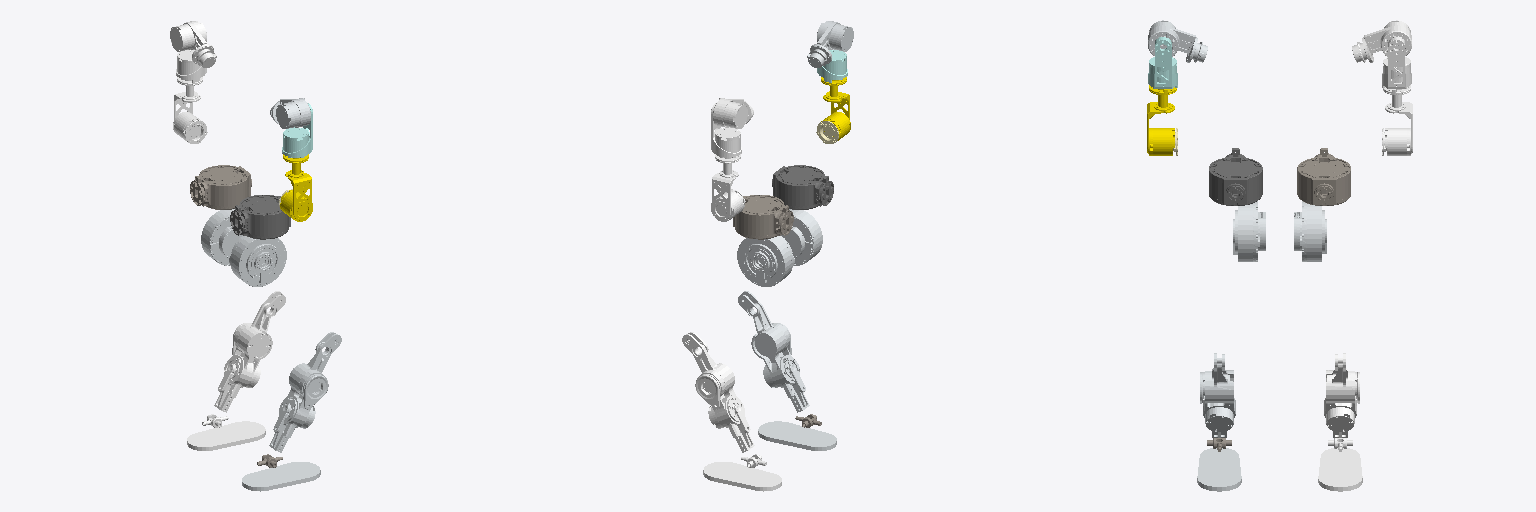
--- What the picture shows (computed from the rendered views, not written in the file) ---
The picture shows the robot from 3 angles, left to right: view 1: azimuth 30°, elevation 25°; view 2: azimuth 150°, elevation 25°; view 3: azimuth 270°, elevation 25°; orthographic projection.
Model Dora2_yin with 21 links and 20 joints (12 revolute, 8 fixed), rooted at base_link, posed every joint at zero.
Visible links, largest first — view 1: l_leg_knee_Link, r_leg_knee_Link, r_leg_hip_yaw_Link, l_leg_hip_roll_Link, r_leg_hip_roll_Link, l_leg_ankle_roll_Link, r_leg_ankle_roll_Link, r_arm_shoulder_yaw_Link, l_leg_hip_yaw_Link, l_arm_shoulder_pitch_Link, r_arm_shoulder_pitch_Link, l_arm_shoulder_yaw_Link (+2 smaller); view 2: r_leg_knee_Link, l_leg_knee_Link, l_leg_hip_yaw_Link, r_leg_hip_roll_Link, l_leg_hip_roll_Link, r_leg_ankle_roll_Link, l_leg_ankle_roll_Link, l_arm_shoulder_yaw_Link, r_leg_hip_yaw_Link, r_arm_shoulder_pitch_Link, l_arm_shoulder_pitch_Link, r_arm_shoulder_yaw_Link (+2 smaller); view 3: l_leg_hip_roll_Link, r_leg_hip_roll_Link, l_leg_knee_Link, r_leg_knee_Link, l_leg_ankle_roll_Link, r_leg_ankle_roll_Link, r_leg_hip_yaw_Link, l_leg_hip_yaw_Link, l_arm_shoulder_yaw_Link, r_arm_shoulder_yaw_Link, l_arm_shoulder_pitch_Link, r_arm_shoulder_pitch_Link (+2 smaller).
Link boxes in pixels (x1,y1,x2,y2): l_leg_knee_Link: (214, 291, 285, 412); r_leg_knee_Link: (269, 332, 341, 452); r_leg_hip_yaw_Link: (229, 236, 286, 286); l_leg_hip_roll_Link: (190, 165, 251, 209); r_leg_hip_roll_Link: (230, 195, 290, 239); l_leg_ankle_roll_Link: (187, 421, 265, 450); r_leg_ankle_roll_Link: (242, 462, 320, 491); r_arm_shoulder_yaw_Link: (280, 154, 312, 221); l_leg_hip_yaw_Link: (201, 209, 242, 265); l_arm_shoulder_pitch_Link: (170, 21, 216, 67); r_arm_shoulder_pitch_Link: (270, 98, 310, 128); l_arm_shoulder_yaw_Link: (173, 77, 202, 140); r_leg_knee_Link: (738, 291, 809, 412); l_leg_knee_Link: (682, 332, 754, 452); l_leg_hip_yaw_Link: (737, 236, 794, 286); r_leg_hip_roll_Link: (772, 165, 833, 209); l_leg_hip_roll_Link: (733, 195, 793, 239); r_leg_ankle_roll_Link: (758, 421, 836, 450); l_leg_ankle_roll_Link: (703, 462, 781, 491); l_arm_shoulder_yaw_Link: (711, 154, 743, 221); r_leg_hip_yaw_Link: (781, 209, 822, 265); r_arm_shoulder_pitch_Link: (807, 21, 853, 67); l_arm_shoulder_pitch_Link: (713, 98, 753, 128); r_arm_shoulder_yaw_Link: (821, 77, 850, 140); l_leg_hip_roll_Link: (1297, 148, 1350, 205); r_leg_hip_roll_Link: (1209, 148, 1262, 205); l_leg_knee_Link: (1324, 353, 1359, 437); r_leg_knee_Link: (1200, 353, 1235, 437); l_leg_ankle_roll_Link: (1318, 448, 1362, 491); r_leg_ankle_roll_Link: (1197, 448, 1241, 491); r_leg_hip_yaw_Link: (1233, 201, 1265, 261); l_leg_hip_yaw_Link: (1294, 201, 1326, 261); l_arm_shoulder_yaw_Link: (1383, 85, 1412, 155); r_arm_shoulder_yaw_Link: (1147, 85, 1176, 155); l_arm_shoulder_pitch_Link: (1352, 20, 1411, 62); r_arm_shoulder_pitch_Link: (1148, 20, 1207, 62).
Size in the robot's own frame: 0.2468 by 0.538 by 0.984 metres.
18 mesh visuals loaded from 21 distinct referenced files (18 binary STL); not drawn: 3 (reference not matched to a file when rendering).

URDF robot description (Dora2_yin):
<?xml version="1.0" encoding="utf-8"?>
<!-- This URDF was automatically created by SolidWorks to URDF Exporter! Originally created by Stephen Brawner ([email redacted])
     Commit Version: 1.6.0-4-g7f85cfe  Build Version: 1.6.7995.38578
     For more information, please see http://wiki.ros.org/sw_urdf_exporter -->
<robot
  name="Dora2_yin">
  <!-- <link name='floor'/>
  <joint
    name="floor_2_base_link"
    type="revolute">
    <parent
      link="floor" />
    <child
      link="base_link" />
  </joint> -->
  <link
    name="base_link">
    <inertial>
      <origin
        xyz="-0.026899 -1.898E-06 0.035918"
        rpy="0 0 0" />
      <mass
        value="5.7651" />
      <inertia
        ixx="0.020053"
        ixy="-8.8171E-07"
        ixz="-3.1053E-05"
        iyy="0.014582"
        iyz="1.1072E-05"
        izz="0.013124" />
    </inertial>
    <visual>
      <origin
        xyz="0 0 0"
        rpy="0 0 0" />
      <geometry>
        <mesh
          filename="./meshes/base_link.STL" />
      </geometry>
      <material
        name="">
        <color
          rgba="0.89804 0.91765 0.92941 1" />
      </material>
    </visual>
    <!-- <collision>
      <origin
        xyz="0 0 0"
        rpy="0 0 0" />
      <geometry>
        <mesh
          filename="./meshes/base_link.STL" />
      </geometry>
    </collision> -->
    <collision>
      <origin
        xyz="0 0. 0.1"
        rpy="0 0 0" />
      <geometry>
        <box size="0.4 0.4 0.4"/>
      </geometry>
    </collision>
  </link>
  <link
    name="l_arm_shoulder_pitch_Link">
    <inertial>
      <origin
        xyz="-0.0032277 -0.00090287 0.064029"
        rpy="0 0 0" />
      <mass
        value="0.47485" />
      <inertia
        ixx="0.00026491"
        ixy="-1.493E-06"
        ixz="-1.3787E-05"
        iyy="0.00023165"
        iyz="-4.313E-06"
        izz="0.00018067" />
    </inertial>
    <visual>
      <origin
        xyz="0 0 0"
        rpy="0 0 0" />
      <geometry>
        <mesh
          filename="./meshes/l_arm_shoulder_pitch_Link.STL" />
      </geometry>
      <material
        name="">
        <color
          rgba="1 1 1 1" />
      </material>
    </visual>
    <collision>
      <origin
        xyz="0 0 0"
        rpy="0 0 0" />
      <geometry>
        <mesh
          filename="./meshes/l_arm_shoulder_pitch_Link.STL" />
      </geometry>
    </collision>
  </link>
  <joint
    name="l_arm_shoulder_pitch_joint"
    type="fixed">
    <origin
      xyz="0 0.16535 0.20168"
      rpy="-1.2217 0 0" />
    <parent
      link="base_link" />
    <child
      link="l_arm_shoulder_pitch_Link" />
    <axis
      xyz="0 0 1" />
    <limit
      lower="-2"
      upper="2"
      effort="100"
      velocity="100" />
  </joint>
  <link
    name="l_arm_shoulder_roll_Link">
    <inertial>
      <origin
        xyz="0.00482434461878539 -0.000218754304780355 -0.066684892346818"
        rpy="0 0 0" />
      <mass
        value="0.369997353872883" />
      <inertia
        ixx="0.000197558683212289"
        ixy="-1.5602634042867E-06"
        ixz="-2.63403084055417E-05"
        iyy="0.00020014685176238"
        iyz="-3.03976144077389E-06"
        izz="0.000160207650697516" />
    </inertial>
    <visual>
      <origin
        xyz="0 0 0"
        rpy="0 0 0" />
      <geometry>
        <mesh
          filename="./meshes/l_arm_shoulder_roll_Link.STL" />
      </geometry>
      <material
        name="">
        <color
          rgba="1 1 1 1" />
      </material>
    </visual>
    <collision>
      <origin
        xyz="0 0 0"
        rpy="0 0 0" />
      <geometry>
        <mesh
          filename="./meshes/l_arm_shoulder_roll_Link.STL" />
      </geometry>
    </collision>
  </link>
  <joint
    name="l_arm_shoulder_roll_joint"
    type="fixed">
    <origin
      xyz="0 0 0.07625"
      rpy="1.2217 0 0" />
    <parent
      link="l_arm_shoulder_pitch_Link" />
    <child
      link="l_arm_shoulder_roll_Link" />
    <axis
      xyz="1 0 0" />
    <limit
      lower="0"
      upper="3"
      effort="100"
      velocity="100" />
  </joint>
  <link
    name="l_arm_shoulder_yaw_Link">
    <inertial>
      <origin
        xyz="-4.03282683863471E-05 0.00245809993860069 -0.0964013469128064"
        rpy="0 0 0" />
      <mass
        value="0.385684351005629" />
      <inertia
        ixx="0.000140770233725746"
        ixy="4.77061098456113E-08"
        ixz="-6.57625183657226E-07"
        iyy="0.000170456017896524"
        iyz="4.83143500058617E-06"
        izz="0.000126959258320037" />
    </inertial>
    <visual>
      <origin
        xyz="0 0 0"
        rpy="0 0 0" />
      <geometry>
        <mesh
          filename="./meshes/l_arm_shoulder_yaw_Link.STL" />
      </geometry>
      <material
        name="">
        <color
          rgba="1 1 1 1" />
      </material>
    </visual>
    <collision>
      <origin
        xyz="0 0 0"
        rpy="0 0 0" />
      <geometry>
        <mesh
          filename="./meshes/l_arm_shoulder_yaw_Link.STL" />
      </geometry>
    </collision>
  </link>
  <joint
    name="l_arm_shoulder_yaw_joint"
    type="fixed">
    <origin
      xyz="0 0 -0.108"
      rpy="0 0 0" />
    <parent
      link="l_arm_shoulder_roll_Link" />
    <child
      link="l_arm_shoulder_yaw_Link" />
    <axis
      xyz="0 0 1" />
    <limit
      lower="-2"
      upper="2"
      effort="100"
      velocity="100" />
  </joint>
  <link
    name="l_arm_elbow_Link">
    <inertial>
      <origin
        xyz="0.000783882641962441 -0.0071164610235743 -0.000187670615894142"
        rpy="0 0 0" />
      <mass
        value="0.0234686345431745" />
      <inertia
        ixx="4.69343397566853E-06"
        ixy="-1.99964708764804E-09"
        ixz="9.87920406079632E-08"
        iyy="9.07836938758881E-06"
        iyz="4.78743667979099E-10"
        izz="5.08242714541202E-06" />
    </inertial>
    <visual>
      <origin
        xyz="0 0 0"
        rpy="0 0 0" />
      <geometry>
        <mesh
          filename="./meshes/l_arm_elbow_Link.STL" />
      </geometry>
      <material
        name="">
        <color
          rgba="1 1 1 1" />
      </material>
    </visual>
    <collision>
      <origin
        xyz="0 0 0"
        rpy="0 0 0" />
      <geometry>
        <mesh
          filename="./meshes/l_arm_elbow_Link.STL" />
      </geometry>
    </collision>
  </link>
  <joint
    name="l_arm_elbow_joint"
    type="fixed">
    <origin
      xyz="0 -0.017 -0.11875"
      rpy="0 0 0" />
    <parent
      link="l_arm_shoulder_yaw_Link" />
    <child
      link="l_arm_elbow_Link" />
    <axis
      xyz="0 1 0" />
    <limit
      lower="-1.5"
      upper="1.5"
      effort="100"
      velocity="100" />
  </joint>
  <link
    name="r_arm_shoulder_pitch_Link">
    <inertial>
      <origin
        xyz="-0.00322766219363702 0.000902867126619522 0.0640292363653914"
        rpy="0 0 0" />
      <mass
        value="0.474849451126101" />
      <inertia
        ixx="0.000264909282657534"
        ixy="1.49302417243388E-06"
        ixz="-1.37867353578637E-05"
        iyy="0.000231649340648057"
        iyz="4.31300719077689E-06"
        izz="0.000180674893290091" />
    </inertial>
    <visual>
      <origin
        xyz="0 0 0"
        rpy="0 0 0" />
      <geometry>
        <mesh
          filename="./meshes/r_arm_shoulder_pitch_Link.STL" />
      </geometry>
      <material
        name="">
        <color
          rgba="0.898039215686275 0.917647058823529 0.929411764705882 1" />
      </material>
    </visual>
    <collision>
      <origin
        xyz="0 0 0"
        rpy="0 0 0" />
      <geometry>
        <mesh
          filename="./meshes/r_arm_shoulder_pitch_Link.STL" />
      </geometry>
    </collision>
  </link>
  <joint
    name="r_arm_shoulder_pitch_joint"
    type="fixed">
    <origin
      xyz="0 -0.16535 0.20168"
      rpy="1.2217 0 0" />
    <parent
      link="base_link" />
    <child
      link="r_arm_shoulder_pitch_Link" />
    <axis
      xyz="0 0 1" />
    <limit
      lower="-2"
      upper="2"
      effort="100"
      velocity="100" />
  </joint>
  <link
    name="r_arm_shoulder_roll_Link">
    <inertial>
      <origin
        xyz="0.00482435004857312 0.000218646457870841 -0.0666848884784403"
        rpy="0 0 0" />
      <mass
        value="0.369997409547943" />
      <inertia
        ixx="0.000197558689735899"
        ixy="1.55936436335277E-06"
        ixz="-2.63403151880769E-05"
        iyy="0.000200146864120328"
        iyz="3.03941874056831E-06"
        izz="0.000160207663265554" />
    </inertial>
    <visual>
      <origin
        xyz="0 0 0"
        rpy="0 0 0" />
      <geometry>
        <mesh
          filename="./meshes/r_arm_shoulder_roll_Link.STL" />
      </geometry>
      <material
        name="">
        <color
          rgba="0.780392156862745 0.972549019607843 0.956862745098039 1" />
      </material>
    </visual>
    <collision>
      <origin
        xyz="0 0 0"
        rpy="0 0 0" />
      <geometry>
        <mesh
          filename="./meshes/r_arm_shoulder_roll_Link.STL" />
      </geometry>
    </collision>
  </link>
  <joint
    name="r_arm_shoulder_roll_joint"
    type="fixed">
    <origin
      xyz="0 0 0.07625"
      rpy="-1.2217 0 0" />
    <parent
      link="r_arm_shoulder_pitch_Link" />
    <child
      link="r_arm_shoulder_roll_Link" />
    <axis
      xyz="1 0 0" />
    <limit
      lower="-3"
      upper="0"
      effort="100"
      velocity="100" />
  </joint>
  <link
    name="r_arm_shoulder_yaw_Link">
    <inertial>
      <origin
        xyz="-4.033E-05 -0.0024581 -0.096401"
        rpy="0 0 0" />
      <mass
        value="0.38568" />
      <inertia
        ixx="0.00014077"
        ixy="-4.771E-08"
        ixz="-6.5762E-07"
        iyy="0.00017046"
        iyz="-4.8314E-06"
        izz="0.00012696" />
    </inertial>
    <visual>
      <origin
        xyz="0 0 0"
        rpy="0 0 0" />
      <geometry>
        <mesh
          filename="./meshes/r_arm_shoulder_yaw_Link.STL" />
      </geometry>
      <material
        name="">
        <color
          rgba="1 0.90588 0 1" />
      </material>
    </visual>
    <collision>
      <origin
        xyz="0 0 0"
        rpy="0 0 0" />
      <geometry>
        <mesh
          filename="./meshes/r_arm_shoulder_yaw_Link.STL" />
      </geometry>
    </collision>
  </link>
  <joint
    name="r_arm_shoulder_yaw_joint"
    type="fixed">
    <origin
      xyz="0 0 -0.108"
      rpy="0 0 0" />
    <parent
      link="r_arm_shoulder_roll_Link" />
    <child
      link="r_arm_shoulder_yaw_Link" />
    <axis
      xyz="0 0 1" />
    <limit
      lower="-2"
      upper="2"
      effort="100"
      velocity="100" />
  </joint>
  <link
    name="r_arm_elbow_Link">
    <inertial>
      <origin
        xyz="0.000783882643357436 0.00711646102274963 -0.000187670617232349"
        rpy="0 0 0" />
      <mass
        value="0.0234686345431746" />
      <inertia
        ixx="4.69343397566855E-06"
        ixy="1.99964708702846E-09"
        ixz="9.87920406079816E-08"
        iyy="9.07836938758883E-06"
        iyz="-4.78743642735379E-10"
        izz="5.08242714541201E-06" />
    </inertial>
    <visual>
      <origin
        xyz="0 0 0"
        rpy="0 0 0" />
      <geometry>
        <mesh
          filename="./meshes/r_arm_elbow_Link.STL" />
      </geometry>
      <material
        name="">
        <color
          rgba="0.972549019607843 0.945098039215686 0.780392156862745 1" />
      </material>
    </visual>
    <collision>
      <origin
        xyz="0 0 0"
        rpy="0 0 0" />
      <geometry>
        <mesh
          filename="./meshes/r_arm_elbow_Link.STL" />
      </geometry>
    </collision>
  </link>
  <joint
    name="r_arm_elbow_joint"
    type="fixed">
    <origin
      xyz="0 0.017 -0.11875"
      rpy="0 0 0" />
    <parent
      link="r_arm_shoulder_yaw_Link" />
    <child
      link="r_arm_elbow_Link" />
    <axis
      xyz="0 1 0" />
    <limit
      lower="-1.5"
      upper="1.5"
      effort="100"
      velocity="100" />
  </joint>
  <link
    name="l_leg_hip_roll_Link">
    <inertial>
      <origin
        xyz="0.073997 -2.6118E-05 -0.00038831"
        rpy="0 0 0" />
      <mass
        value="1.2237" />
      <inertia
        ixx="0.0010875"
        ixy="2.5346E-06"
        ixz="4.9227E-06"
        iyy="0.0012014"
        iyz="-2.996E-07"
        izz="0.0021103" />
    </inertial>
    <visual>
      <origin
        xyz="0 0 0"
        rpy="0 0 0" />
      <geometry>
        <mesh
          filename="./meshes/l_leg_hip_roll_Link.STL" />
      </geometry>
      <material
        name="">
        <color
          rgba="0.64706 0.61961 0.58824 1" />
      </material>
    </visual>
    <!-- <collision>
      <origin
        xyz="0 0 0"
        rpy="0 0 0" />
      <geometry>
        <mesh
          filename="./meshes/l_leg_hip_roll_Link.STL" />
      </geometry>
    </collision> -->
  </link>
  <joint
    name="left hip roll"
    type="revolute">
    <origin
      xyz="-0.0792 0.09002 -0.085"
      rpy="0 0 0" />
    <parent
      link="base_link" />
    <child
      link="l_leg_hip_roll_Link" />
    <axis
      xyz="1 0 0" />
    <limit
      lower="-0.3"
      upper="1"
      effort="90"
      velocity="100" />
  </joint>
  <link
    name="l_leg_hip_yaw_Link">
    <inertial>
      <origin
        xyz="0.00018298 -0.018275 -0.069994"
        rpy="0 0 0" />
      <mass
        value="1.5439" />
      <inertia
        ixx="0.0016181"
        ixy="1.229E-06"
        ixz="-2.3738E-06"
        iyy="0.0028764"
        iyz="2.6967E-06"
        izz="0.0014519" />
    </inertial>
    <visual>
      <origin
        xyz="0 0 0"
        rpy="0 0 0" />
      <geometry>
        <mesh
          filename="./meshes/l_leg_hip_yaw_Link.STL" />
      </geometry>
      <material
        name="">
        <color
          rgba="0.89804 0.91765 0.92941 1" />
      </material>
    </visual>
    <collision>
      <origin
        xyz="0 0 0"
        rpy="0 0 0" />
      <geometry>
        <mesh
          filename="./meshes/l_leg_hip_yaw_Link.STL" />
      </geometry>
    </collision>
  </link>
  <joint
    name="left hip yaw"
    type="revolute">
    <origin
      xyz="0.0815 0 -0.0375"
      rpy="0 0 0" />
    <parent
      link="l_leg_hip_roll_Link" />
    <child
      link="l_leg_hip_yaw_Link" />
    <axis
      xyz="0 0 1" />
    <limit
      lower="-0.75"
      upper="1.05"
      effort="90"
      velocity="100" />
  </joint>
  <link
    name="l_leg_hip_pitch_Link">
    <inertial>
      <origin
        xyz="0.00263050346808996 0.0505924691116392 -0.0509281264870309"
        rpy="0 0 0" />
      <mass
        value="2.63780166885626" />
      <inertia
        ixx="0.0128050639410327"
        ixy="-7.30670824907572E-06"
        ixz="0.00012322434413997"
        iyy="0.0146659167630542"
        iyz="0.000182392843008207"
        izz="0.00218142025359868" />
    </inertial>
    <visual>
      <origin
        xyz="0 0 0"
        rpy="0 0 0" />
      <geometry>
        <mesh
          filename="./meshes/l_leg_hip_pitch_Link.STL" />
      </geometry>
      <material
        name="">
        <color
          rgba="1 1 1 1" />
      </material>
    </visual>
    <collision>
      <origin
        xyz="0 0 0"
        rpy="0 0 0" />
      <geometry>
        <mesh
          filename="./meshes/l_leg_hip_pitch_Link.STL" />
      </geometry>
    </collision>
  </link>
  <joint
    name="left hip pitch"
    type="revolute">
    <origin
      xyz="0 0 -0.076"
      rpy="0 -0.5235987755982988 0" />
    <parent
      link="l_leg_hip_yaw_Link" />
    <child
      link="l_leg_hip_pitch_Link" />
    <axis
      xyz="0 1 0" />
    <limit
      lower="-0.98"
      upper="2.02"
      effort="150"
      velocity="100" />
  </joint>
  <link
    name="l_leg_knee_Link">
    <inertial>
      <origin
        xyz="0.00266770031269203 0.00221957096227114 -0.128036168256414"
        rpy="0 0 0" />
      <mass
        value="1.34567623230749" />
      <inertia
        ixx="0.00225057945909996"
        ixy="-2.36738551821806E-06"
        ixz="-2.21475954062562E-05"
        iyy="0.0022436430421998"
        iyz="-4.54794163165065E-05"
        izz="0.000463767068680579" />
    </inertial>
    <visual>
      <origin
        xyz="0 0 0"
        rpy="0 0 0" />
      <geometry>
        <mesh
          filename="./meshes/l_leg_knee_Link.STL" />
      </geometry>
      <material
        name="">
        <color
          rgba="1 1 1 1" />
      </material>
    </visual>
    <collision>
      <origin
        xyz="0 0 0"
        rpy="0 0 0" />
      <geometry>
        <mesh
          filename="./meshes/l_leg_knee_Link.STL" />
      </geometry>
    </collision>
  </link>
  <joint
    name="left knee pitch"
    type="revolute">
    <origin
      xyz="0 0.032659 -0.27"
      rpy="0 1.0471975511965976 0" />
    <parent
      link="l_leg_hip_pitch_Link" />
    <child
      link="l_leg_knee_Link" />
    <axis
      xyz="0 1 0" />
    <limit
      lower="-0.96"
      upper="0.96"
      effort="150"
      velocity="100" />
  </joint>
  <link
    name="l_leg_ankle_pitch_Link">
    <inertial>
      <origin
        xyz="0.0010416057050221 3.86596726853483E-09 -9.72771641016834E-10"
        rpy="0 0 0" />
      <mass
        value="0.0899541151447192" />
      <inertia
        ixx="1.16237302815817E-05"
        ixy="6.8818627585469E-12"
        ixz="-6.20500503887009E-13"
        iyy="1.42974136786799E-05"
        iyz="7.1490905437311E-13"
        izz="2.19294687658168E-05" />
    </inertial>
    <visual>
      <origin
        xyz="0 0 0"
        rpy="0 0 0" />
      <geometry>
        <mesh
          filename="./meshes/l_leg_ankle_pitch_Link.STL" />
      </geometry>
      <material
        name="">
        <color
          rgba="1 1 1 1" />
      </material>
    </visual>
    <!-- <collision>
      <origin
        xyz="0 0 0"
        rpy="0 0 0" />
      <geometry>
        <mesh
          filename="./meshes/l_leg_ankle_pitch_Link.STL" />
      </geometry>
    </collision> -->
  </link>
  <joint
    name="left ankle pitch"
    type="revolute">
    <origin
      xyz="0 0 -0.28"
      rpy="0 -0.5235987755982988 0" />
    <parent
      link="l_leg_knee_Link" />
    <child
      link="l_leg_ankle_pitch_Link" />
    <axis
      xyz="0 1 0" />
    <limit
      lower="-1.28"
      upper="1.08"
      effort="27"
      velocity="100" />
  </joint>
  <link
    name="l_leg_ankle_roll_Link">
    <inertial>
      <origin
        xyz="0.00956351706341918 2.52051269337139E-05 -0.0277821418441356"
        rpy="0 0 0" />
      <mass
        value="0.442108383473458" />
      <inertia
        ixx="0.000179440452962887"
        ixy="-9.81668136691162E-08"
        ixz="2.01427592817129E-05"
        iyy="0.000724129860482909"
        iyz="4.76805498508633E-08"
        izz="0.000870339094674059" />
    </inertial>
    <visual>
      <origin
        xyz="0 0 0"
        rpy="0 0 0" />
      <geometry>
        <mesh
          filename="./meshes/l_leg_ankle_roll_Link.STL" />
      </geometry>
      <material
        name="">
        <color
          rgba="1 1 1 1" />
      </material>
    </visual>
    <collision>
      <origin
        xyz="0 0 0"
        rpy="0 0 0" />
      <geometry>
        <mesh
          filename="./meshes/l_leg_ankle_roll_Link.STL" />
      </geometry>
    </collision>
  </link>
  <joint
    name="left ankle roll"
    type="revolute">
    <origin
      xyz="0 0 0"
      rpy="0 0 0" />
    <parent
      link="l_leg_ankle_pitch_Link" />
    <child
      link="l_leg_ankle_roll_Link" />
    <axis
      xyz="1 0 0" />
    <limit
      lower="-0.5"
      upper="0.5"
      effort="27"
      velocity="100" />
  </joint>
  <link
    name="r_leg_hip_roll_Link">
    <inertial>
      <origin
        xyz="0.073997 -2.6118E-05 -0.00038831"
        rpy="0 0 0" />
      <mass
        value="1.2237" />
      <inertia
        ixx="0.0010875"
        ixy="2.5346E-06"
        ixz="4.9227E-06"
        iyy="0.0012014"
        iyz="-2.996E-07"
        izz="0.0021103" />
    </inertial>
    <visual>
      <origin
        xyz="0 0 0"
        rpy="0 0 0" />
      <geometry>
        <mesh
          filename="./meshes/r_leg_hip_roll_Link.STL" />
      </geometry>
      <material
        name="">
        <color
          rgba="0.49804 0.49804 0.49804 1" />
      </material>
    </visual>
    <!-- <collision>
      <origin
        xyz="0 0 0"
        rpy="0 0 0" />
      <geometry>
        <mesh
          filename="./meshes/r_leg_hip_roll_Link.STL" />
      </geometry>
    </collision> -->
  </link>
  <joint
    name="right hip roll"
    type="revolute">
    <origin
      xyz="-0.0792 -0.08998 -0.085"
      rpy="0 0 0" />
    <parent
      link="base_link" />
    <child
      link="r_leg_hip_roll_Link" />
    <axis
      xyz="1 0 0" />
    <limit
      lower="-1"
      upper="0.3"
      effort="90"
      velocity="100" />
  </joint>
  <link
    name="r_leg_hip_yaw_Link">
    <inertial>
      <origin
        xyz="0.00023924 0.018241 -0.069997"
        rpy="0 0 0" />
      <mass
        value="1.5439" />
      <inertia
        ixx="0.0016183"
        ixy="1.3779E-08"
        ixz="-4.3002E-07"
        iyy="0.0028766"
        iyz="-2.7088E-06"
        izz="0.0014515" />
    </inertial>
    <visual>
      <origin
        xyz="0 0 0"
        rpy="0 0 0" />
      <geometry>
        <mesh
          filename="./meshes/r_leg_hip_yaw_Link.STL" />
      </geometry>
      <material
        name="">
        <color
          rgba="0.89804 0.91765 0.92941 1" />
      </material>
    </visual>
    <collision>
      <origin
        xyz="0 0 0"
        rpy="0 0 0" />
      <geometry>
        <mesh
          filename="./meshes/r_leg_hip_yaw_Link.STL" />
      </geometry>
    </collision>
  </link>
  <joint
    name="right hip yaw"
    type="revolute">
    <origin
      xyz="0.0815 0 -0.0375"
      rpy="0 0 0" />
    <parent
      link="r_leg_hip_roll_Link" />
    <child
      link="r_leg_hip_yaw_Link" />
    <axis
      xyz="0 0 1" />
    <limit
      lower="-1.05"
      upper="0.75"
      effort="90"
      velocity="100" />
  </joint>
  <link
    name="r_leg_hip_pitch_Link">
    <inertial>
      <origin
        xyz="0.00263050346808996 -0.0505924691116392 -0.0509281264870309"
        rpy="0 0 0" />
      <mass
        value="2.63780166885626" />
      <inertia
        ixx="0.0128050639410327"
        ixy="-7.30670824907572E-06"
        ixz="0.00012322434413997"
        iyy="0.0146659167630542"
        iyz="0.000182392843008207"
        izz="0.00218142025359868" />
    </inertial>
    <visual>
      <origin
        xyz="0 0 0"
        rpy="0 0 0" />
      <geometry>
        <mesh
          filename="./meshes/r_leg_hip_pitch_Link.STL" />
      </geometry>
      <material
        name="">
        <color
          rgba="0.89804 0.91765 0.92941 1" />
      </material>
    </visual>
    <collision>
      <origin
        xyz="0 0 0"
        rpy="0 0 0" />
      <geometry>
        <mesh
          filename="./meshes/r_leg_hip_pitch_Link.STL" />
      </geometry>
    </collision>
  </link>
  <joint
    name="right hip pitch"
    type="revolute">
    <origin
      xyz="0 0 -0.076"
      rpy="0 -0.5235987755982988 0" />
    <parent
      link="r_leg_hip_yaw_Link" />
    <child
      link="r_leg_hip_pitch_Link" />
    <axis
      xyz="0 1 0" />
    <limit
      lower="-0.98"
      upper="2.02"
      effort="150"
      velocity="100" />
  </joint>
  <link
    name="r_leg_knee_Link">
    <inertial>
      <origin
        xyz="0.0026677 -0.0022197 -0.12804"
        rpy="0 0 0" />
      <mass
        value="1.3457" />
      <inertia
        ixx="0.0022506"
        ixy="2.3667E-06"
        ixz="-2.2148E-05"
        iyy="0.0022436"
        iyz="4.5481E-05"
        izz="0.00046377" />
    </inertial>
    <visual>
      <origin
        xyz="0 0 0"
        rpy="0 0 0" />
      <geometry>
        <mesh
          filename="./meshes/r_leg_knee_Link.STL" />
      </geometry>
      <material
        name="">
        <color
          rgba="0.89804 0.91765 0.92941 1" />
      </material>
    </visual>
    <collision>
      <origin
        xyz="0 0 0"
        rpy="0 0 0" />
      <geometry>
        <mesh
          filename="./meshes/r_leg_knee_Link.STL" />
      </geometry>
    </collision>
  </link>
  <joint
    name="right knee pitch"
    type="revolute">
    <origin
      xyz="0 -0.0327 -0.27"
      rpy="0 1.0471975511965976 0" />
    <parent
      link="r_leg_hip_pitch_Link" />
    <child
      link="r_leg_knee_Link" />
    <axis
      xyz="0 1 0" />
    <limit
      lower="-0.96"
      upper="0.96"
      effort="150"
      velocity="100" />
  </joint>
  <link
    name="r_leg_ankle_pitch_Link">
    <inertial>
      <origin
        xyz="0.0010416 -3.8669E-09 -9.735E-10"
        rpy="0 0 0" />
      <mass
        value="0.089954" />
      <inertia
        ixx="1.1624E-05"
        ixy="-6.8819E-12"
        ixz="-6.205E-13"
        iyy="1.4297E-05"
        iyz="-7.1496E-13"
        izz="2.1929E-05" />
    </inertial>
    <visual>
      <origin
        xyz="0 0 0"
        rpy="0 0 0" />
      <geometry>
        <mesh
          filename="./meshes/r_leg_ankle_pitch_Link.STL" />
      </geometry>
      <material
        name="">
        <color
          rgba="0.64706 0.61961 0.58824 1" />
      </material>
    </visual>
    <!-- <collision>
      <origin
        xyz="0 0 0"
        rpy="0 0 0" />
      <geometry>
        <mesh
          filename="./meshes/r_leg_ankle_pitch_Link.STL" />
      </geometry>
    </collision> -->
  </link>
  <joint
    name="right ankle pitch"
    type="revolute">
    <origin
      xyz="0 0 -0.28"
      rpy="0 -0.5235987755982988 0" />
    <parent
      link="r_leg_knee_Link" />
    <child
      link="r_leg_ankle_pitch_Link" />
    <axis
      xyz="0 1 0" />
    <limit
      lower="-1.28"
      upper="1.08"
      effort="27"
      velocity="100" />
  </joint>
  <link
    name="r_leg_ankle_roll_Link">
    <inertial>
      <origin
        xyz="0.0095635 -2.5209E-05 -0.027782"
        rpy="0 0 0" />
      <mass
        value="0.44211" />
      <inertia
        ixx="0.00017944"
        ixy="9.8037E-08"
        ixz="2.0143E-05"
        iyy="0.00072413"
        iyz="-4.7705E-08"
        izz="0.00087034" />
    </inertial>
    <visual>
      <origin
        xyz="0 0 0"
        rpy="0 0 0" />
      <geometry>
        <mesh
          filename="./meshes/r_leg_ankle_roll_Link.STL" />
      </geometry>
      <material
        name="">
        <color
          rgba="0.89804 0.91765 0.92941 1" />
      </material>
    </visual>
    <collision>
      <origin
        xyz="0 0 0"
        rpy="0 0 0" />
      <geometry>
        <mesh
          filename="./meshes/r_leg_ankle_roll_Link.STL" />
      </geometry>
    </collision>
  </link>
  <joint
    name="right ankle roll"
    type="revolute">
    <origin
      xyz="0 0 0"
      rpy="0 0 0" />
    <parent
      link="r_leg_ankle_pitch_Link" />
    <child
      link="r_leg_ankle_roll_Link" />
    <axis
      xyz="1 0 0" />
    <limit
      lower="-0.5"
      upper="0.5"
      effort="27"
      velocity="100" />
  </joint>
</robot>
